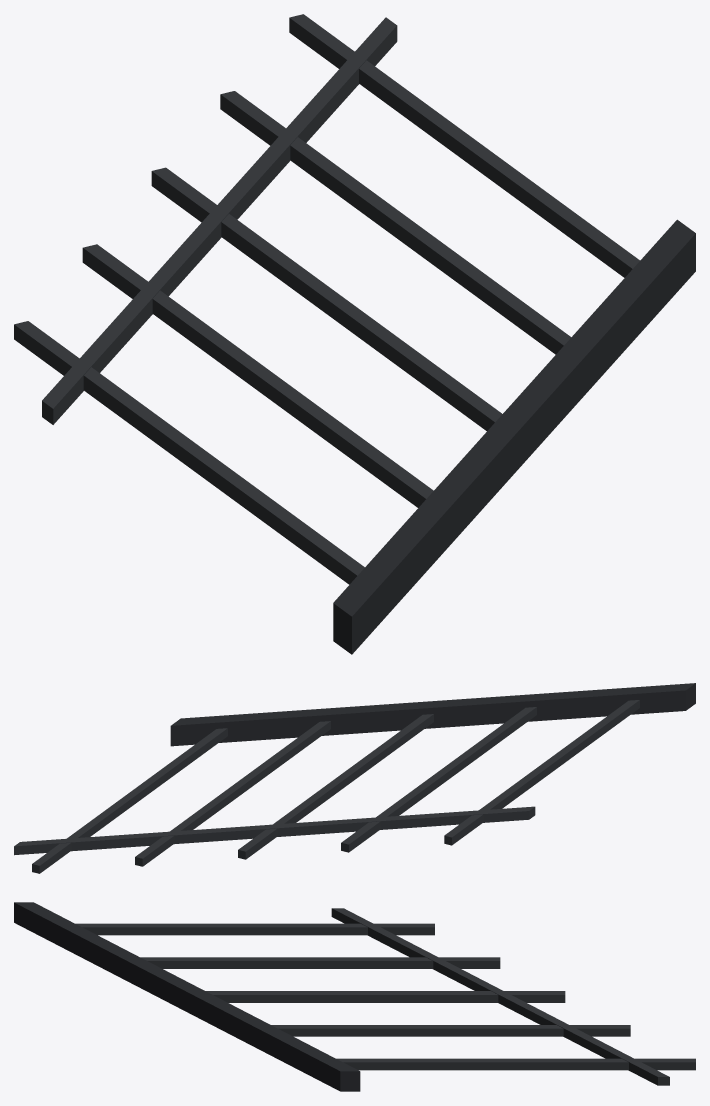
Rendered from rail-middle-vp0-0.5_0.5_0_1.obj.
3 renders of one model, top to bottom at view 1: azimuth 30°, elevation 25°; view 2: azimuth 150°, elevation 25°; view 3: azimuth 270°, elevation 25°, orthographic. The views are drawn at different scales.
Bounding box in the file's own units: 1 × 0.056 × 1.71.
Materials: 1 (1 with a texture image).
